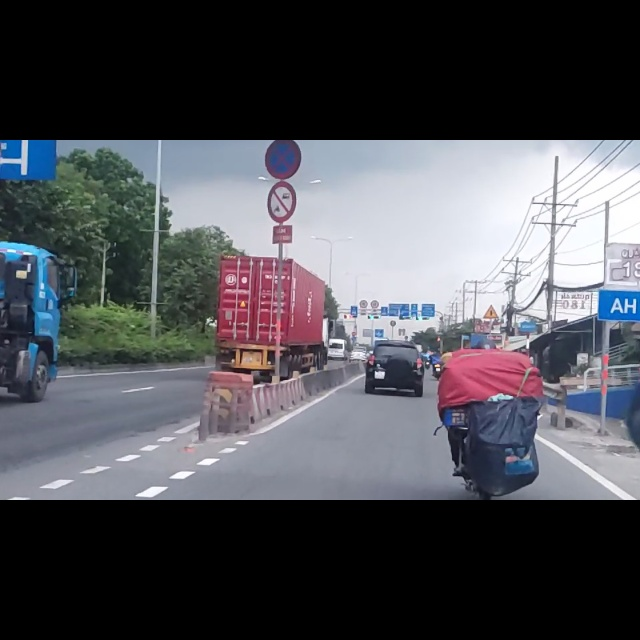bien_cam: (263, 2, 302, 69), (266, 73, 297, 145), (483, 293, 498, 319)
